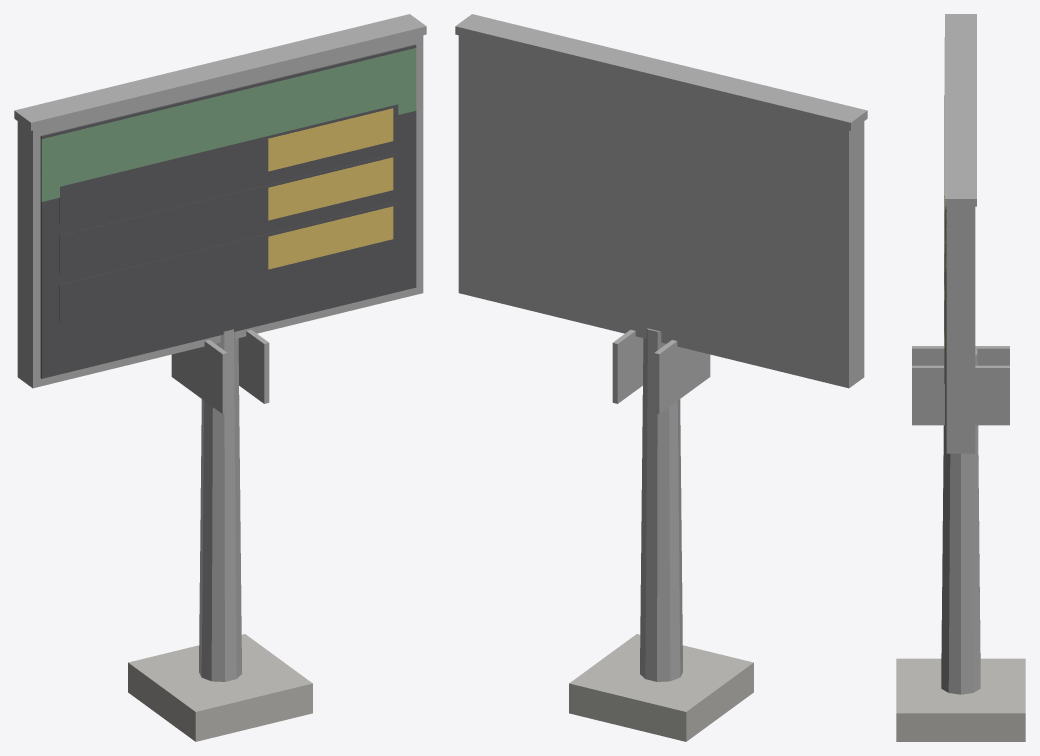
Rendered from roadsign.glb.
3 renders of one model, left to right at view 1: azimuth 30°, elevation 25°; view 2: azimuth 150°, elevation 25°; view 3: azimuth 270°, elevation 25°, orthographic. The views are drawn at different scales.
Parts seen in each view (by area): view 1: NC_roadsign; view 2: NC_roadsign; view 3: NC_roadsign.
Part boxes in pixels (x1,y1,x2,y2): NC_roadsign: [14, 14, 426, 741]; NC_roadsign: [455, 14, 867, 741]; NC_roadsign: [896, 14, 1025, 741].
Size of the model in its own units: 3.04 by 4.66 by 0.9.
